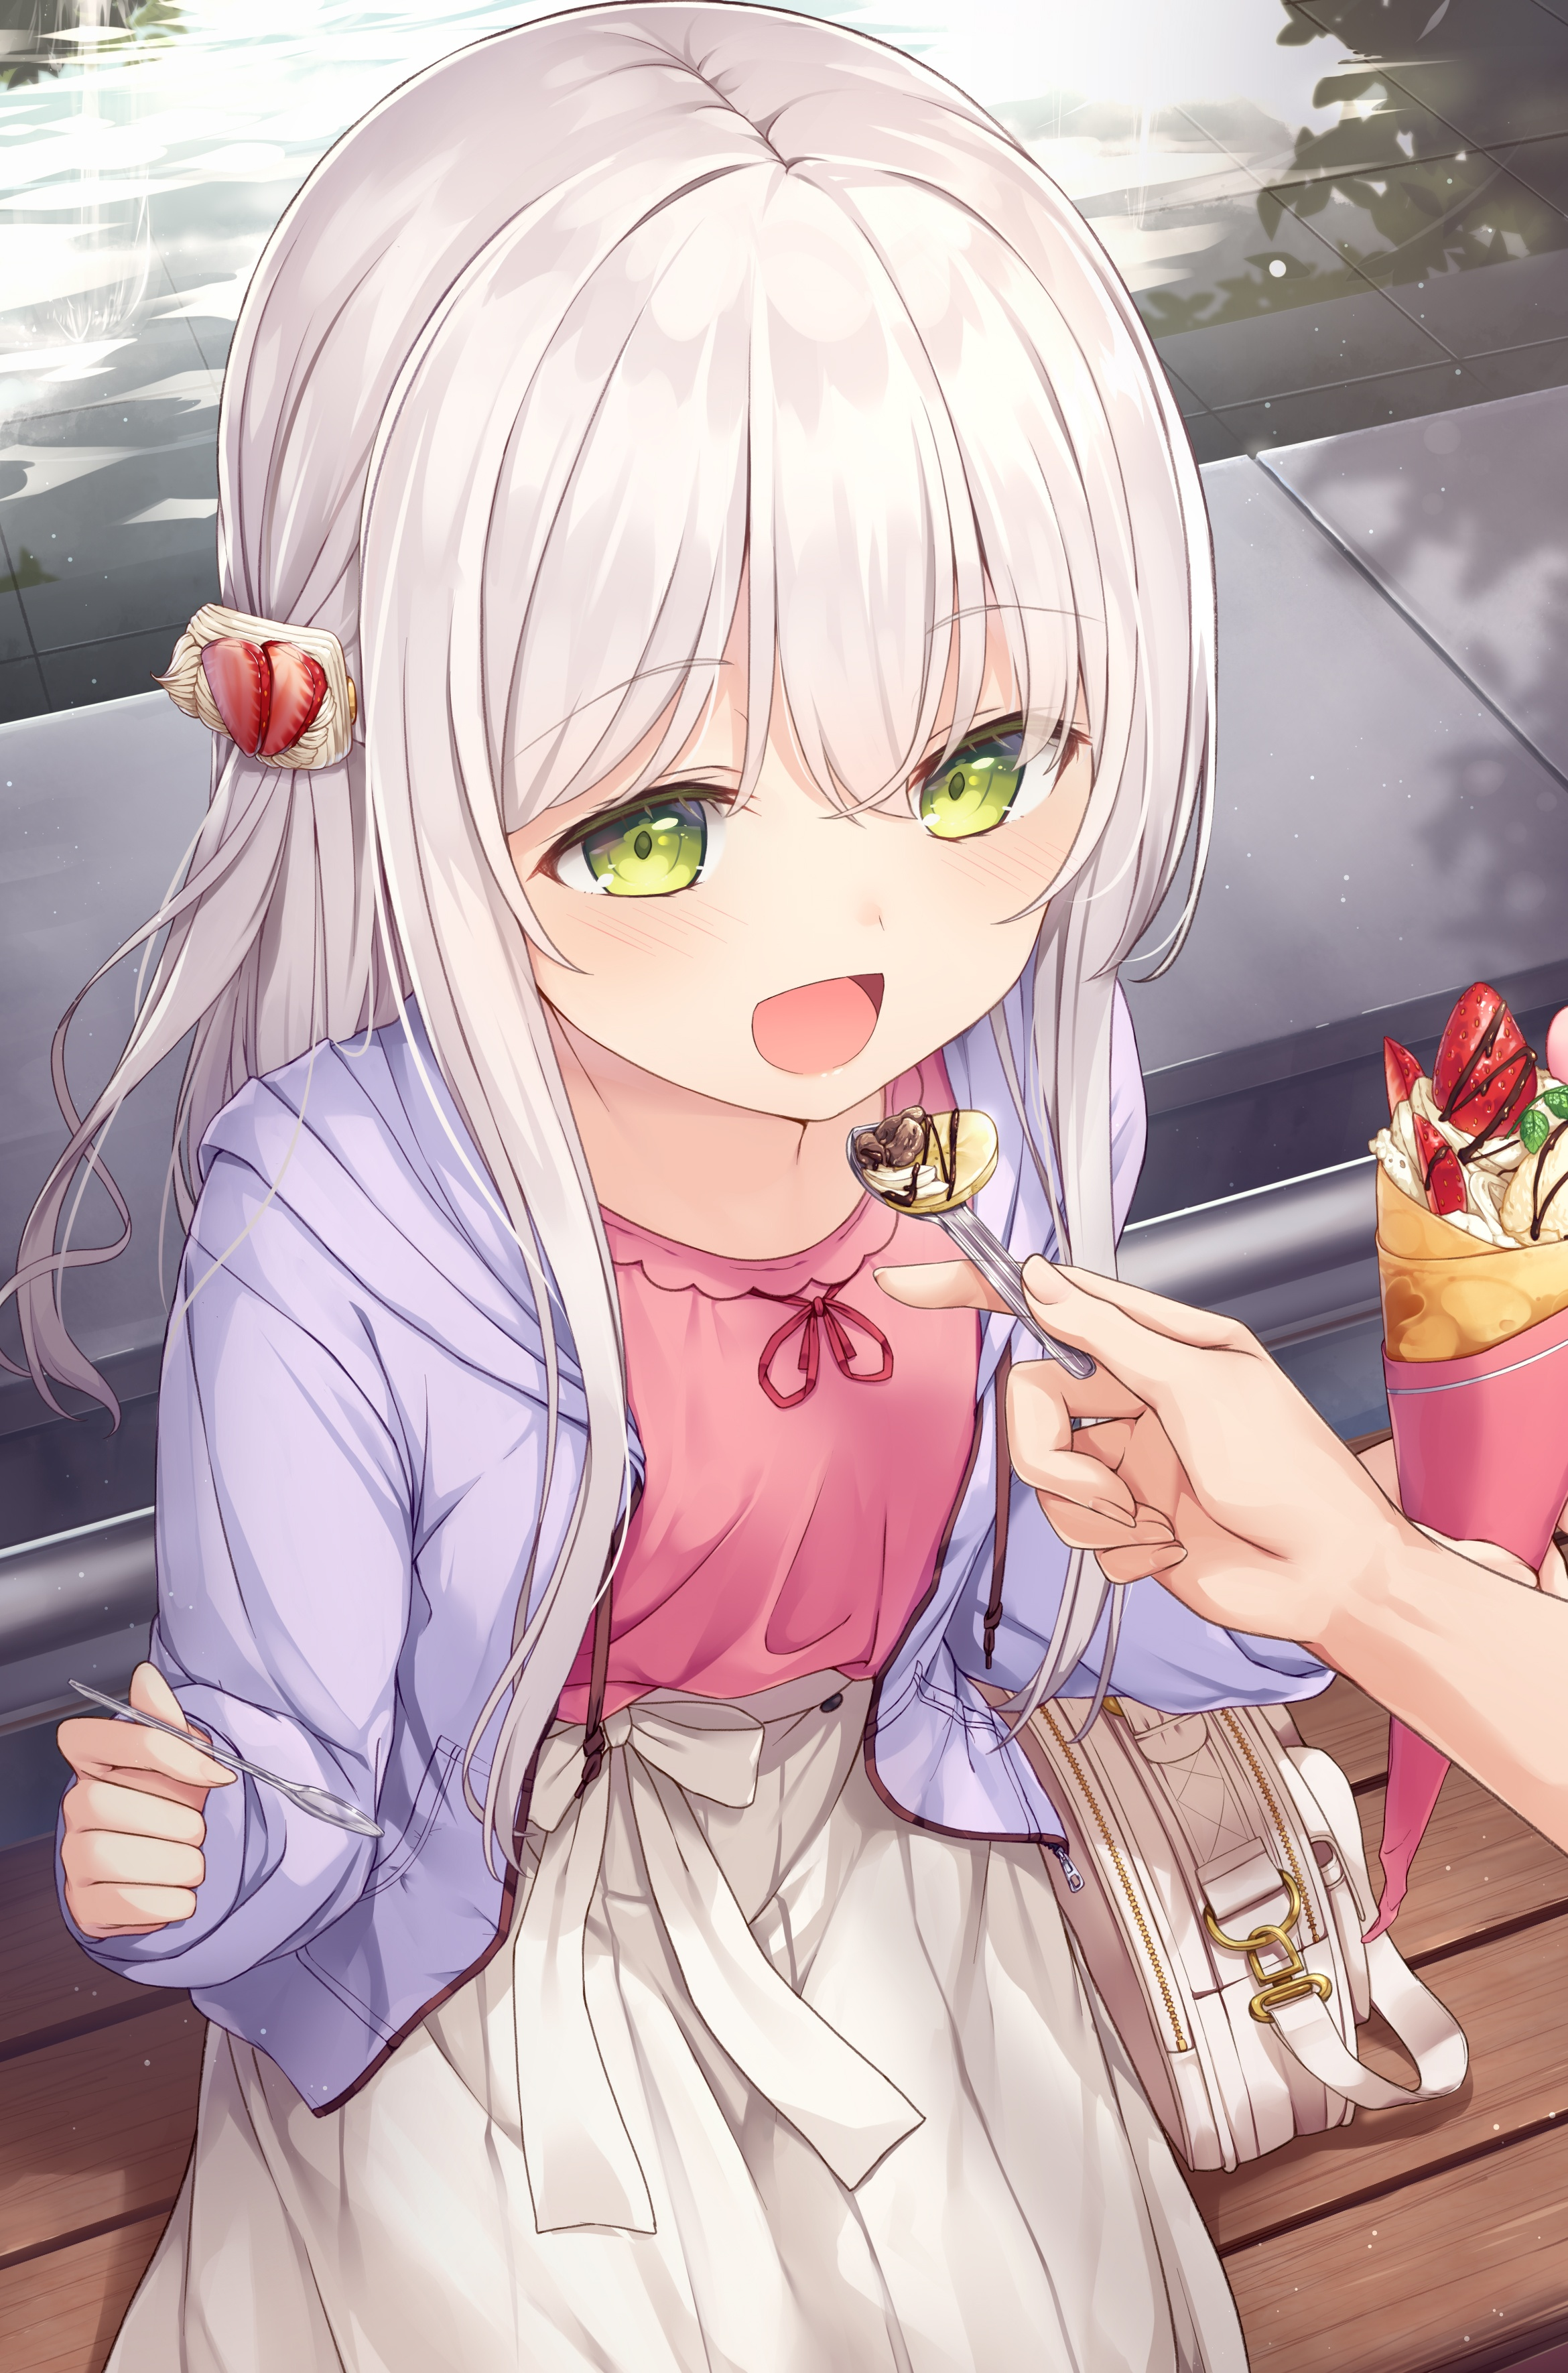纸片人正脸: (231, 19, 1210, 1160)
